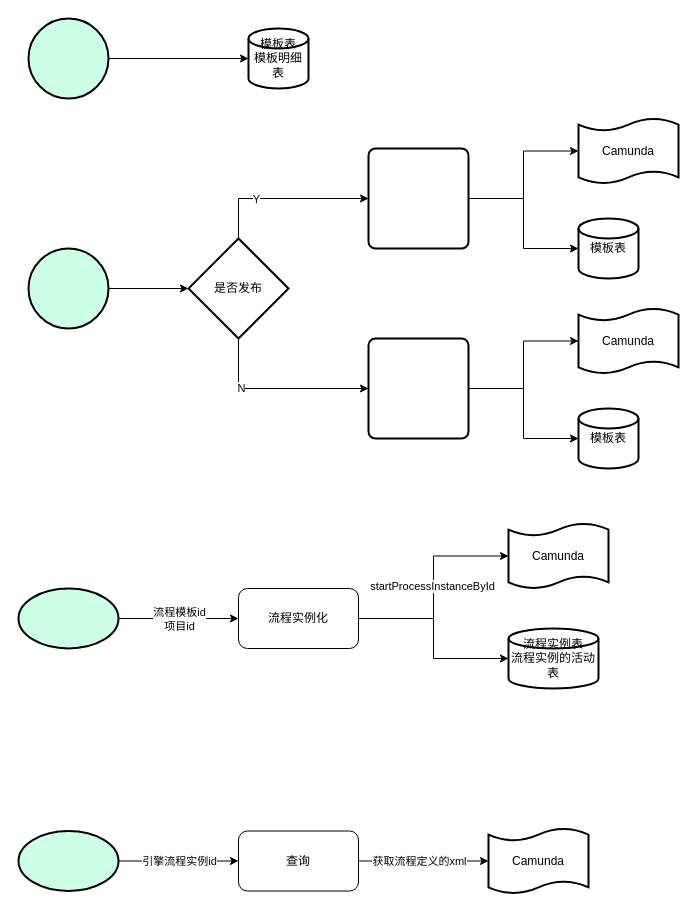
Image size: 696x911. Some labels were removed from this diagram. Here are the shapes that lost their labels. From the top down, the centre of each, then its label:
At (68,58): "OPENAPI 流程模板CRUD".
At (418,198): "部署流程 更新字段".
At (68,288): "OPENAPI 流程模板 发布/取消".
At (418,388): "取消部署 更新字段".
At (68,618): "Feign 流程模板 实例化".
At (68,861): "OPENAPI 查询流程定义XML".
